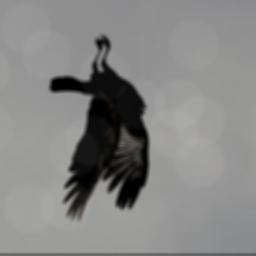Crow: (48, 31, 150, 224)
